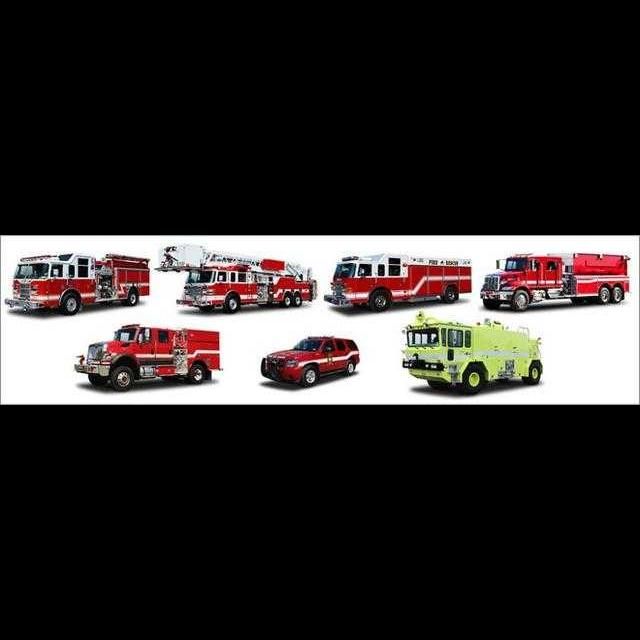emergency: (401, 310, 544, 394), (155, 243, 319, 313), (75, 323, 222, 391), (478, 251, 630, 313), (4, 251, 150, 315), (322, 253, 472, 311), (260, 335, 360, 387)
